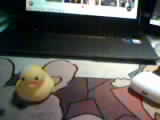duck: (4, 59, 58, 109)
